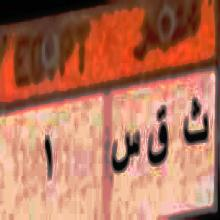1: (38, 128, 57, 188)
qaaf: (145, 104, 170, 178)
seen: (110, 123, 140, 176)
thaa: (180, 92, 212, 158)
